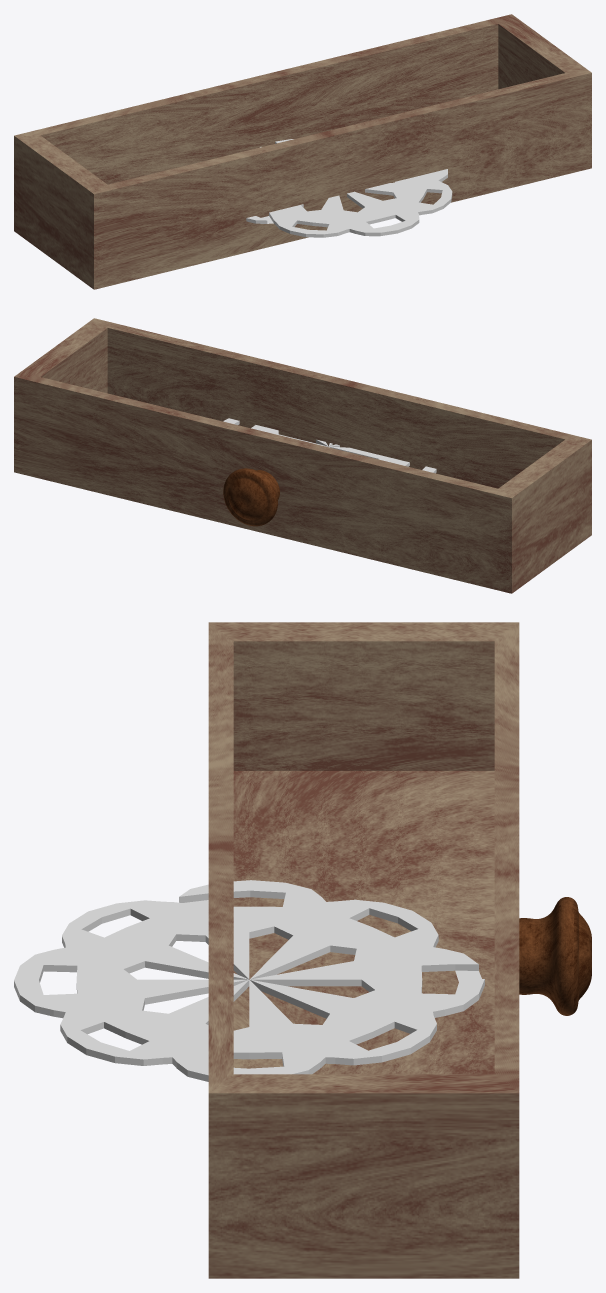
File: Drawer.fbx
3 views of the same model, one above another, from view 1: azimuth 30°, elevation 25°; view 2: azimuth 150°, elevation 25°; view 3: azimuth 270°, elevation 25° (orthographic). The views are drawn at different scales.
Parts seen in each view (by area): view 1: Drawer; view 2: Drawer; view 3: Drawer.
Part boxes in pixels (bbox=[...]): Drawer: bbox=[14, 14, 591, 289]; Drawer: bbox=[14, 318, 591, 593]; Drawer: bbox=[14, 622, 591, 1278].
Bounding box in the file's own units: 752 × 390 × 138.
3 materials, 2 textured.
